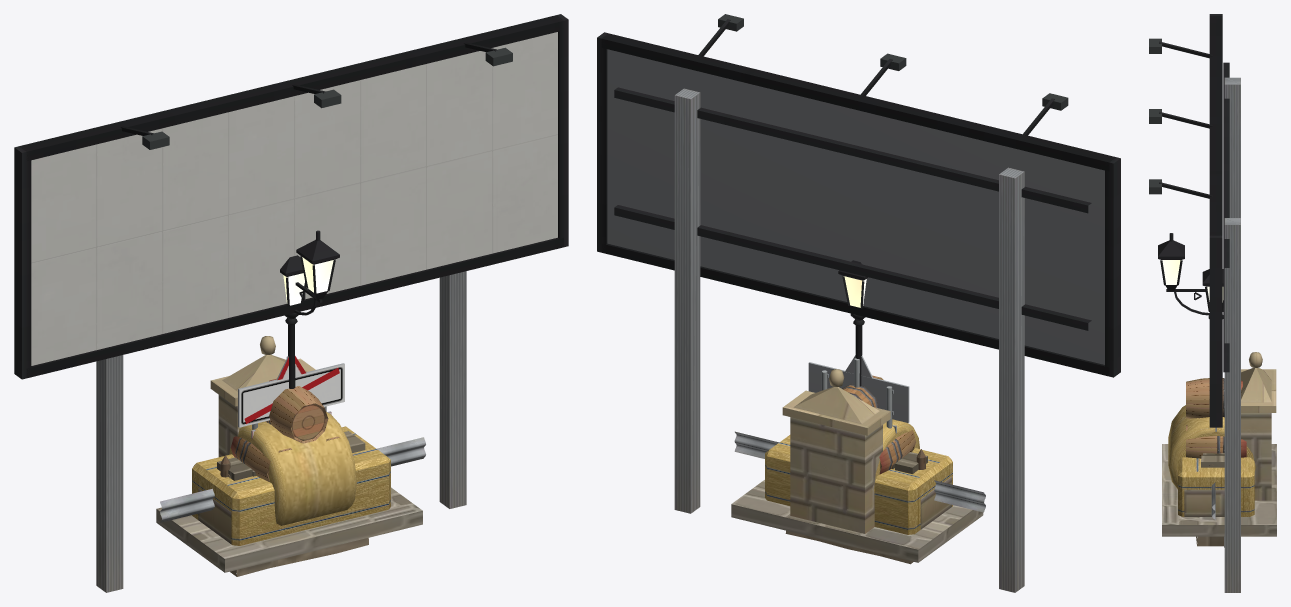
Rendered from props.glb.
3 views of the same model, side by side, from view 1: azimuth 30°, elevation 25°; view 2: azimuth 150°, elevation 25°; view 3: azimuth 270°, elevation 25° (orthographic). The views are drawn at different scales.
Parts seen in each view (by area): view 1: billboard, fountain, bale_round, bale_square, barrel_stack, sign_town_exit, guardrail_4m, street_lamp_wall, stone_wall_2m, street_lamp; view 2: billboard, fountain, bale_square, sign_town_exit, guardrail_4m, barrel_stack, street_lamp, stone_wall_2m; view 3: billboard, fountain, bale_square, barrel_stack, bale_round, street_lamp_wall, stone_wall_2m, street_lamp.
Boxes of the visible parts, x1,y1,x2,y2 form: billboard: [14, 14, 568, 592]; fountain: [156, 336, 422, 572]; bale_round: [229, 412, 356, 525]; bale_square: [192, 426, 390, 545]; barrel_stack: [231, 378, 339, 481]; sign_town_exit: [238, 364, 344, 429]; guardrail_4m: [160, 437, 425, 522]; street_lamp_wall: [294, 230, 339, 315]; stone_wall_2m: [217, 431, 368, 576]; street_lamp: [280, 255, 306, 388]; billboard: [597, 14, 1120, 592]; fountain: [731, 369, 983, 562]; bale_square: [765, 435, 952, 534]; sign_town_exit: [808, 362, 909, 428]; guardrail_4m: [734, 431, 985, 512]; barrel_stack: [842, 375, 916, 474]; street_lamp: [838, 260, 867, 386]; stone_wall_2m: [785, 452, 927, 564]; billboard: [1149, 14, 1240, 592]; fountain: [1162, 352, 1276, 536]; bale_square: [1178, 457, 1254, 516]; barrel_stack: [1186, 378, 1246, 458]; bale_round: [1168, 405, 1255, 489]; street_lamp_wall: [1158, 233, 1209, 315]; stone_wall_2m: [1196, 453, 1224, 546]; street_lamp: [1202, 269, 1223, 318].
Bounding box in the file's own units: 8.28 × 7.02 × 2.
8 materials, 7 textured.
